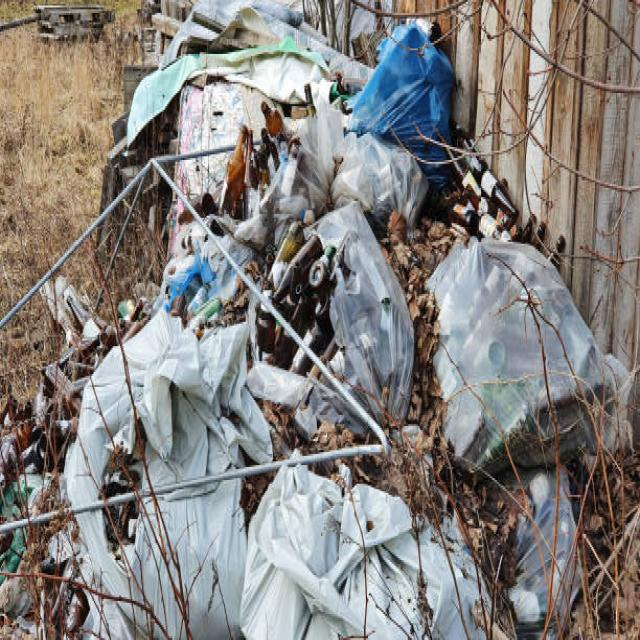glass: (210, 149, 332, 340)
